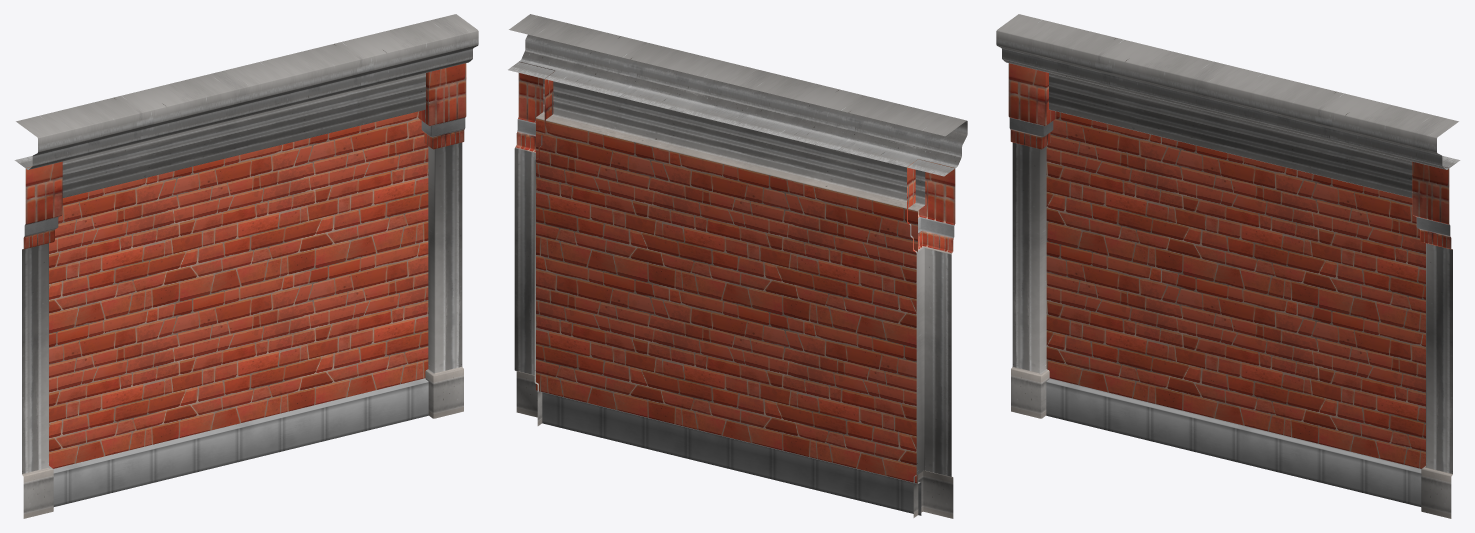
Rendered from SM_Facade_02a.fbx.
3 views of the same model, side by side, from view 1: azimuth 30°, elevation 25°; view 2: azimuth 150°, elevation 25°; view 3: azimuth 330°, elevation 25° (orthographic).
Visible parts, largest first — view 1: SM_Facade_02a; view 2: SM_Facade_02a; view 3: SM_Facade_02a.
Part boxes in pixels (box(x1,y1,x2,y2)): SM_Facade_02a: box(14, 14, 478, 518); SM_Facade_02a: box(508, 14, 967, 518); SM_Facade_02a: box(996, 14, 1460, 518).
Bounding box in the file's own units: 640 × 60 × 544.
